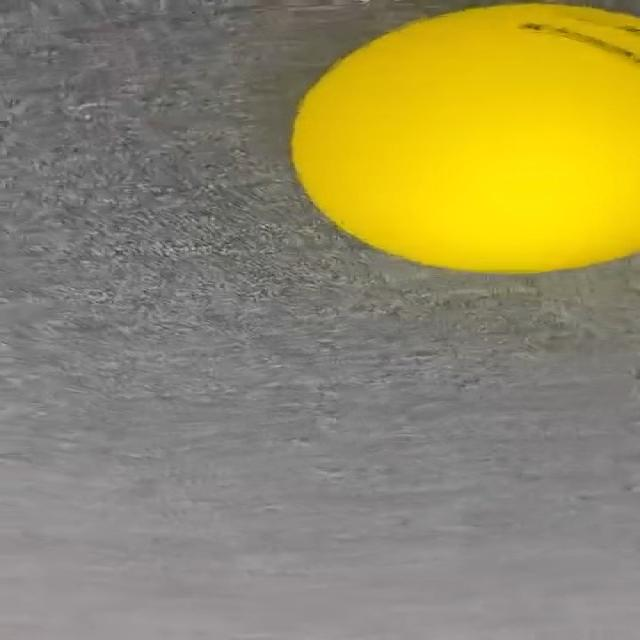Fuels: (293, 4, 638, 271)
